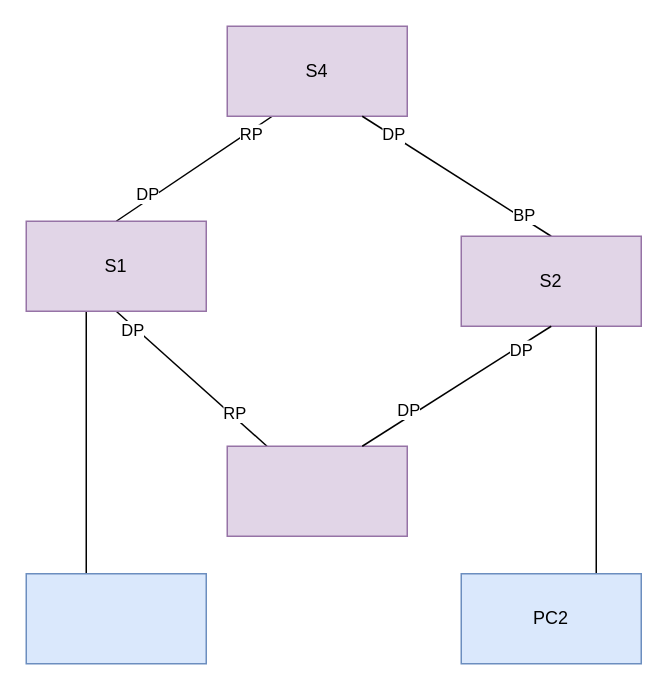
The diagram is 668 pixels wide and 690 high, and some of its shapes have lost their labels. Each missing label, with the centre of its shape:
"PC1" belongs at pixel 115 618.
"S3" belongs at pixel 316 490.
